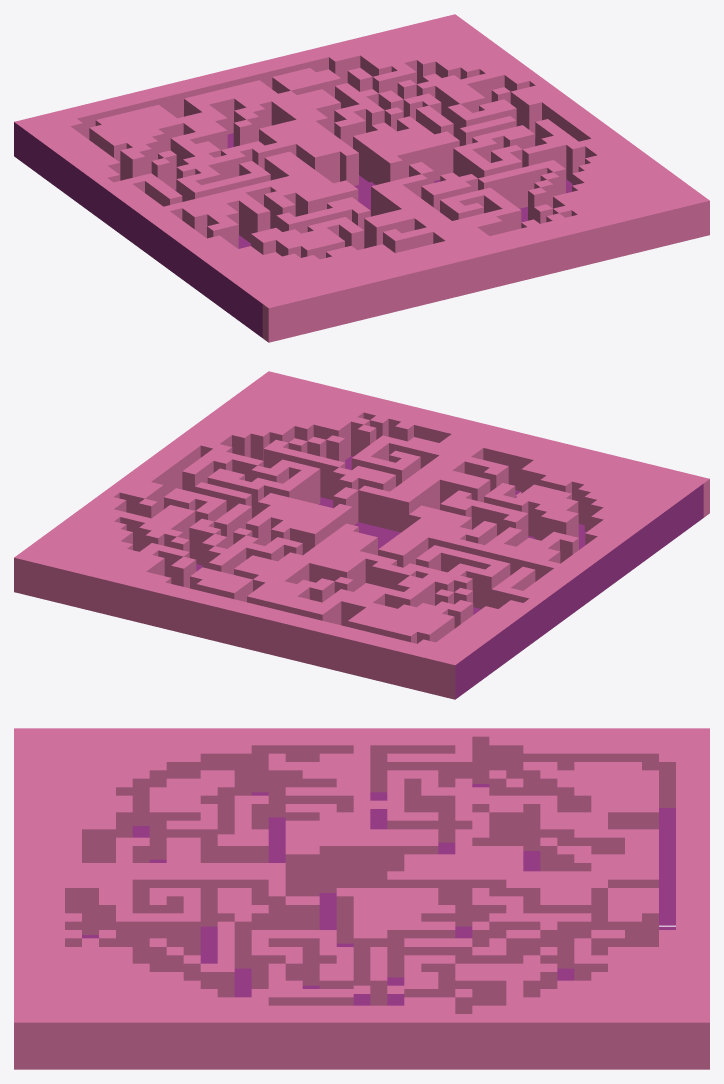
The model's file is LoveNuts_Brain_Maze__NoTexture_02.fbx.
3 views of the same model, one above another, from view 1: azimuth 30°, elevation 25°; view 2: azimuth 150°, elevation 25°; view 3: azimuth 270°, elevation 25° (orthographic). The views are drawn at different scales.
Visible parts, largest first — view 1: Plane; view 2: Plane; view 3: Plane.
Boxes of the visible parts, x1,y1,x2,y2 form: Plane: (14,14,709,342); Plane: (14,371,709,699); Plane: (14,728,709,1069).
Size of the model in its own units: 44840 by 3393 by 44840.
